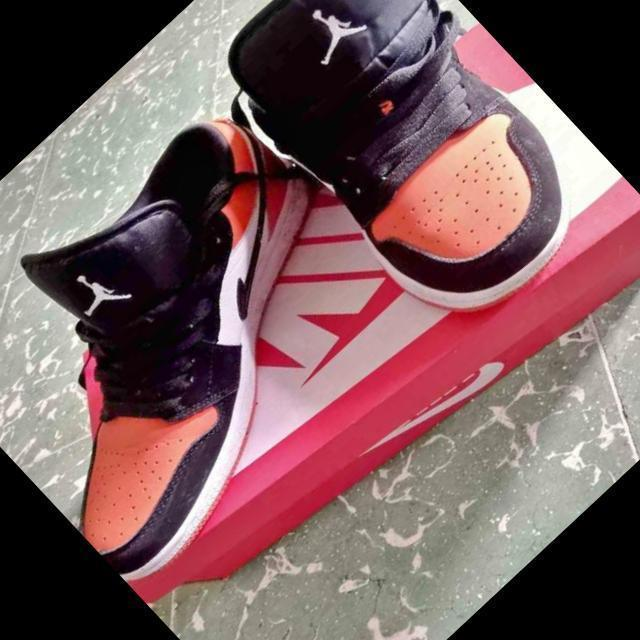nike fake jordan 1: (0, 79, 434, 594), (186, 0, 640, 363)
